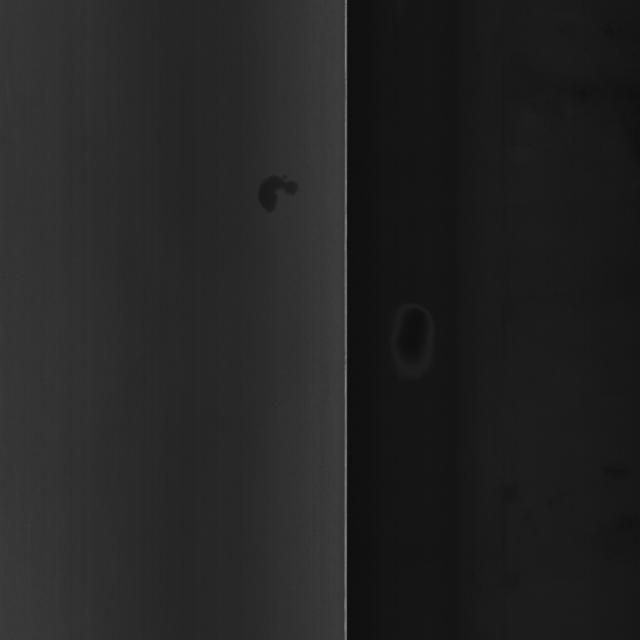welding_line: (253, 161, 313, 231)
